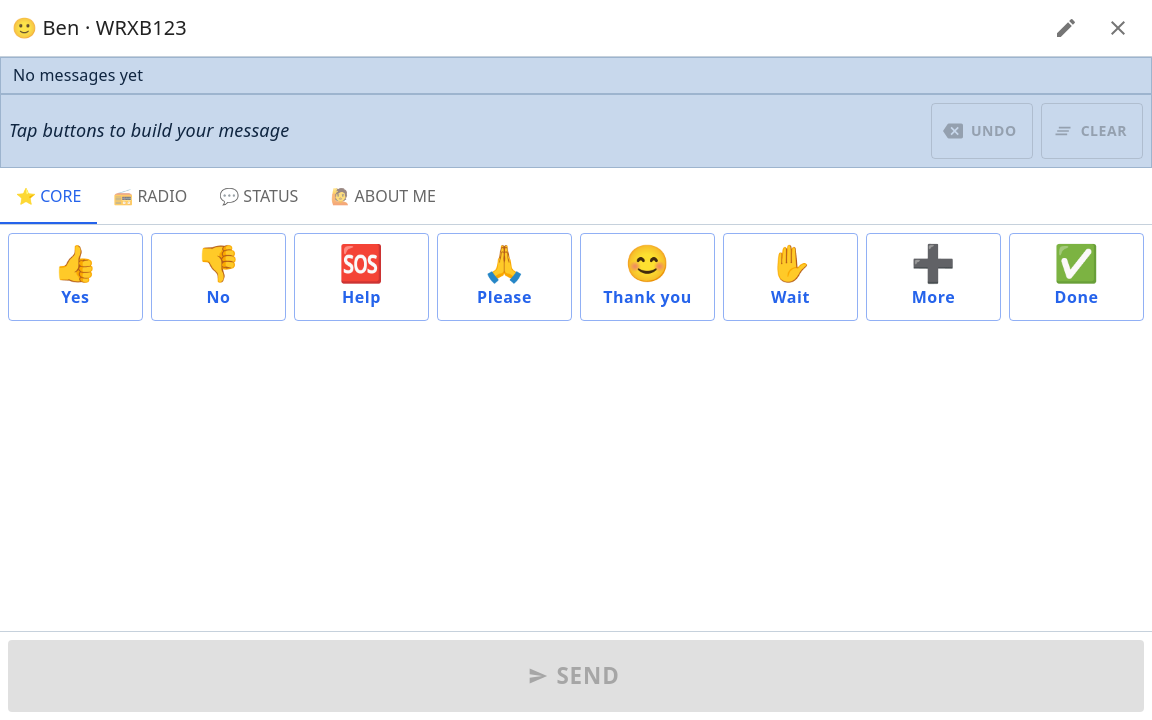
Scenario: AACApp › edit mode: tapping a button opens the editor instead of appending
The image size is (1152, 720).
What coordinates should you click on to do the following:
click the button named "Edit buttons"
I would click on:
 (1066, 28)
Its box is [1044,6,1088,50].
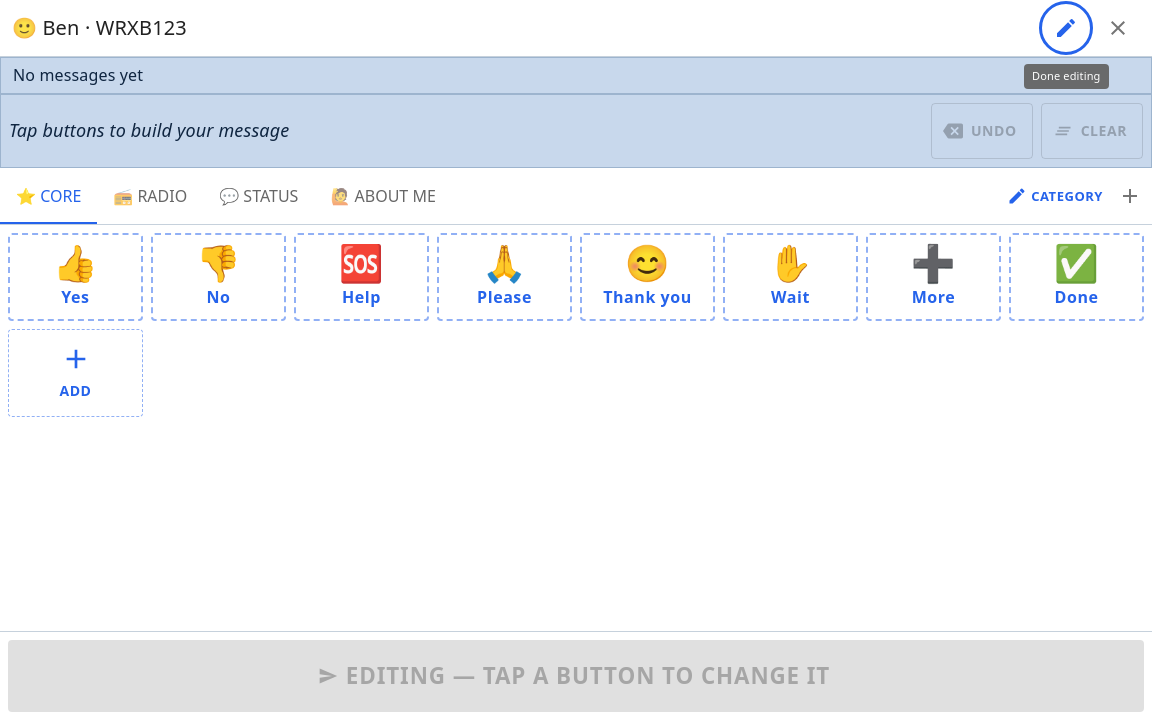
What coordinates should you click on to do the following:
click the button with aria-label "Edit button: Yes"
I would click on:
 (76, 277)
Its box is [8,233,143,321].
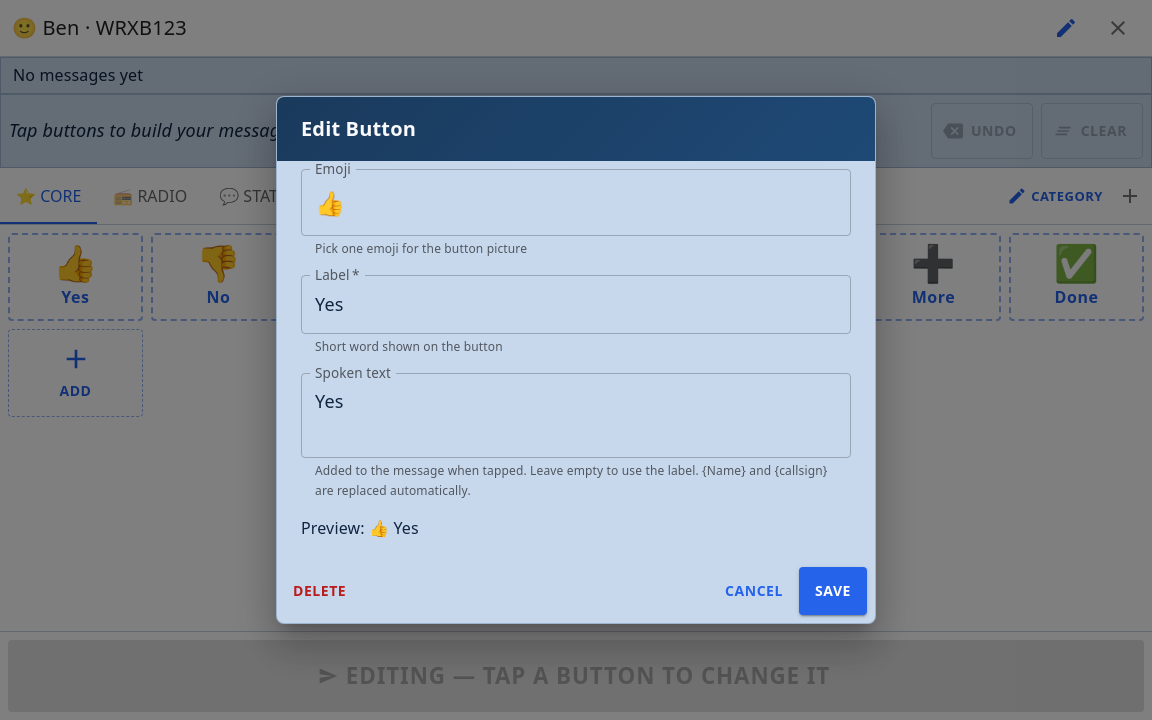
Expected: the dialog "Edit Button" is shown, [276,96,876,624]
